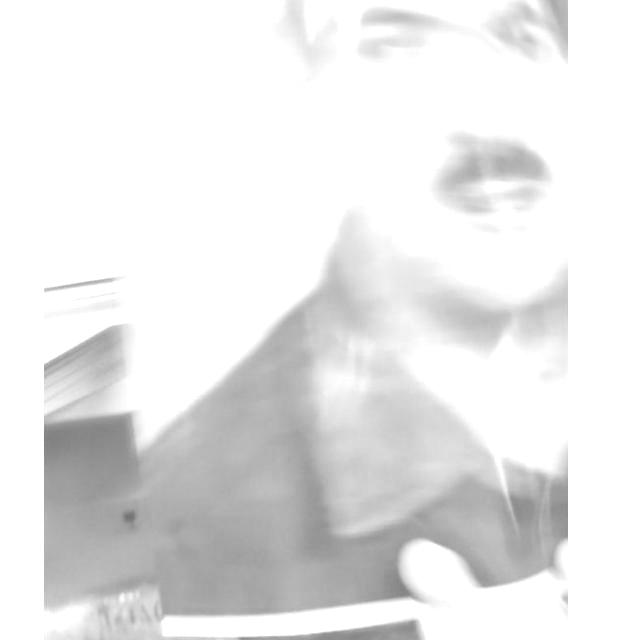fake: (111, 0, 569, 640)
